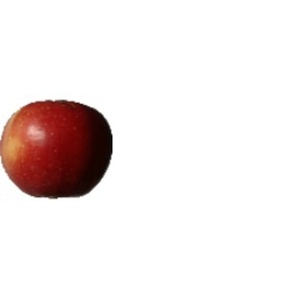maçã braeburn: (2, 97, 113, 198)
